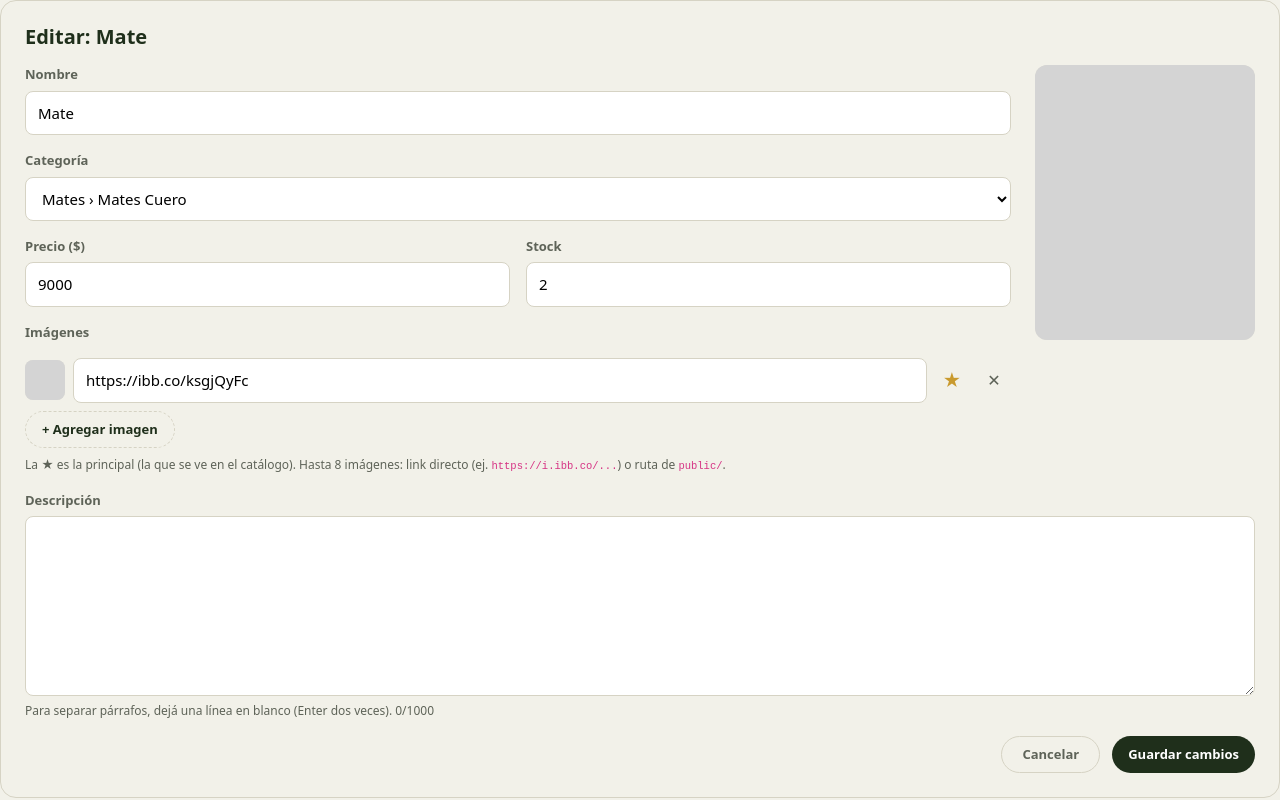
Scenario: ProductoForm › ignora los campos de imagen vacíos y rechaza links de página de ibb.co
Click the button "Guardar cambios": (1184, 755) x1=1112 y1=736 x2=1255 y2=773
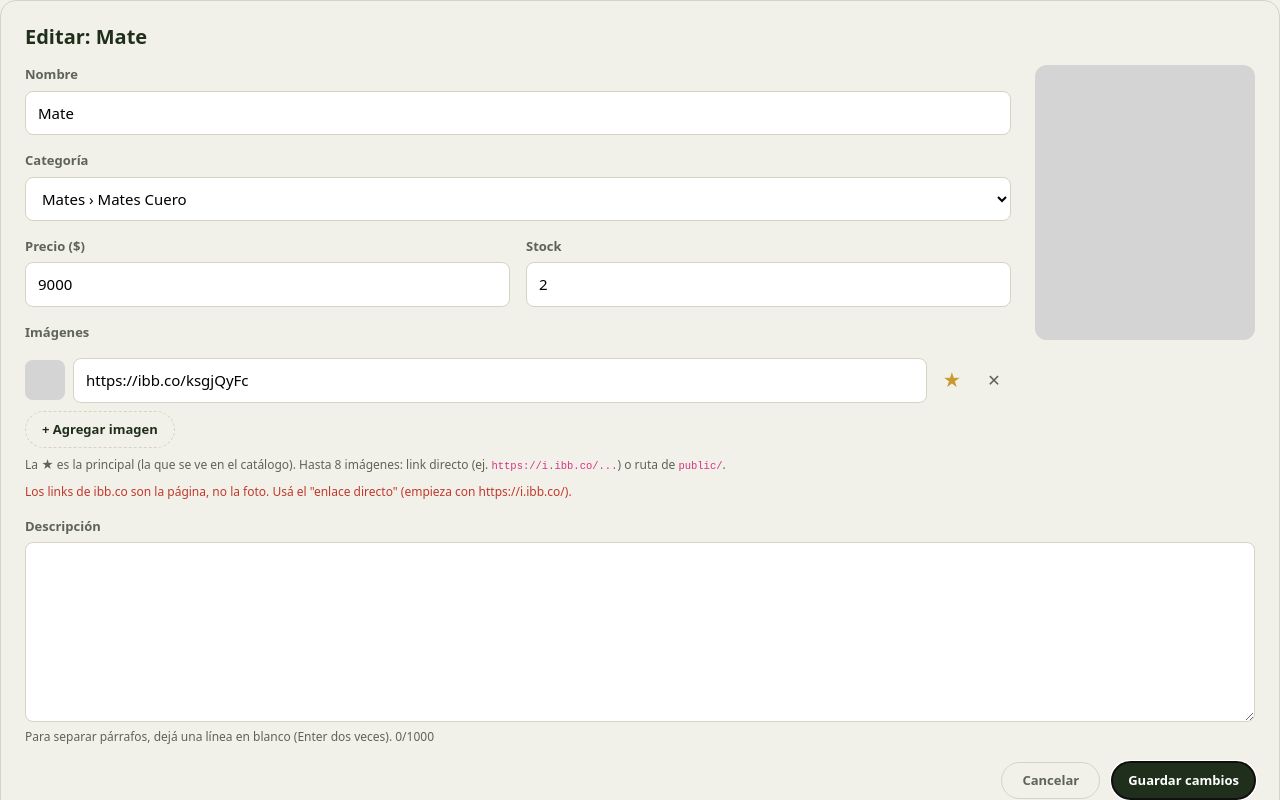
Check: the text "Los links de ibb.co son la página" is shown, box x1=25 y1=483 x2=572 y2=500
